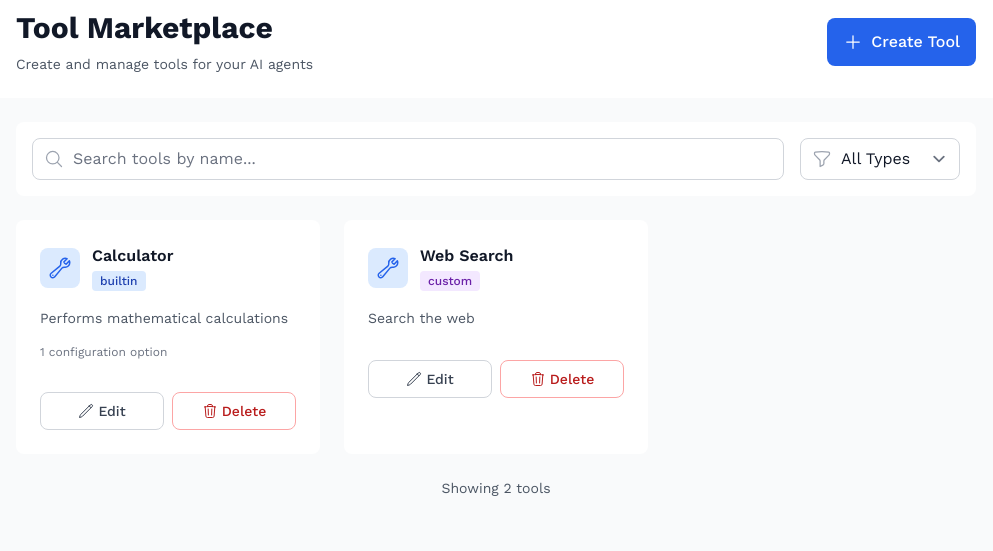
Scenario: ToolMarketplace › Search functionality › displays active search filter badge
Step 1. Type "Calculator" into the search field with placeholder "Search tools by name..." → (408, 159), box [32,138,784,180]
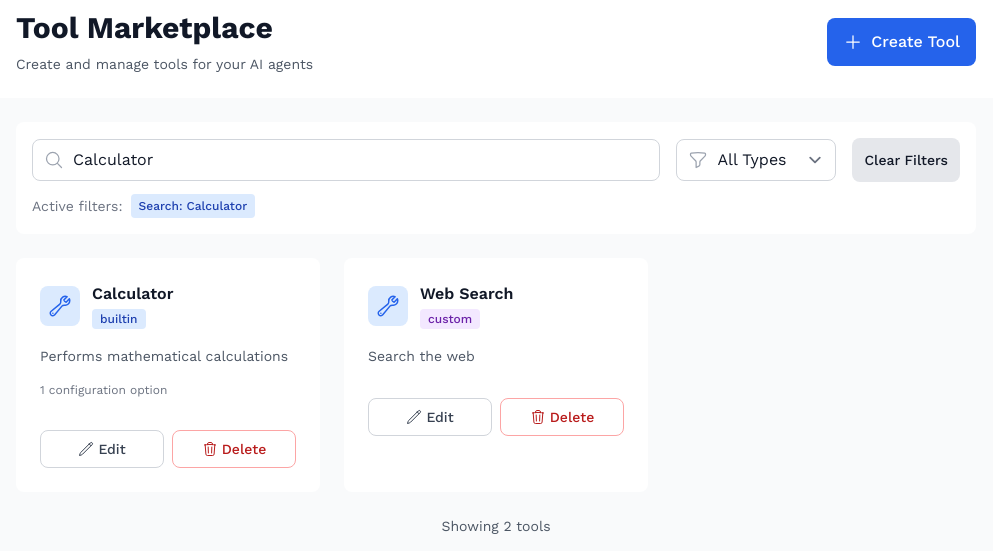
Result: the text "Search: Calculator" is shown at [130,194,255,218]
